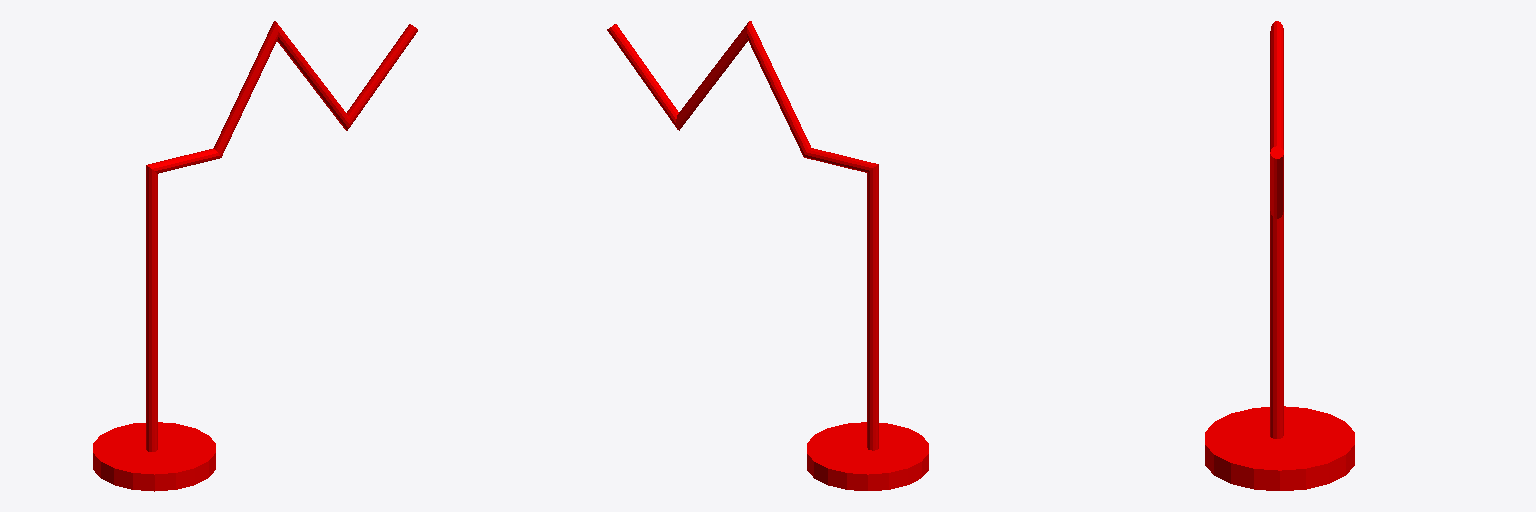
URDF robot description (ring):
<?xml version="0.0" ?>
<robot name="ring">
    <material name="white">
        <color rgba="1 0 0 1"/>
    </material>

    <link name="baseLink">
        <!-- from lego/lego.urdf -->
        <contact>
            <lateral_friction value="1.0"/>
            <rolling_friction value="0.0"/>
            <contact_cfm value="0.0"/>
            <contact_erp value="1.0"/>
        </contact>
        <inertial>
            <origin rpy="0 0 0" xyz="0 0 0"/>
            <mass value="0.01"/>
            <inertia ixx="1" ixy="0" ixz="0" iyy="1" iyz="0" izz="1"/>
        </inertial>
        <visual>
            <origin rpy="1.57 0 0" xyz="0 0 0"/>
            <geometry>
                <!--        radius: 10mm, depth: 14.5mm-->
                <mesh filename="meshes/n.obj" scale="1 1 1"/>
                <!--        <box size="0.002 0.002 0.002"/>-->
            </geometry>
            <material name="white"/>
        </visual>
        <collision>
            <origin rpy="1.57 0 0" xyz="0 0 0"/>
            <geometry>
                <mesh filename="meshes/n_vhacd.obj" scale="1 1 1"/>
                       <!-- <box size="2 2 2"/> -->
            </geometry>
        </collision>
    </link>
</robot>

--- Facts derived from the render (not from the file) ---
The picture shows the robot from 3 angles, left to right: view 1: azimuth 30°, elevation 25°; view 2: azimuth 150°, elevation 25°; view 3: azimuth 270°, elevation 25°; orthographic projection.
Robot: ring — 1 links, 0 joints (none); root link baseLink; default pose: every joint at zero.
Visible links, largest first — view 1: baseLink; view 2: baseLink; view 3: baseLink.
Boxes of the visible links, x1=… form: baseLink: x1=93, y1=21, x2=417, y2=491; baseLink: x1=607, y1=21, x2=928, y2=490; baseLink: x1=1205, y1=21, x2=1354, y2=490.
Size in the robot's own frame: 0.0921 by 0.031 by 0.1159 metres.
Meshes: 1 distinct files referenced, 1 mesh visuals loaded (1 OBJ).